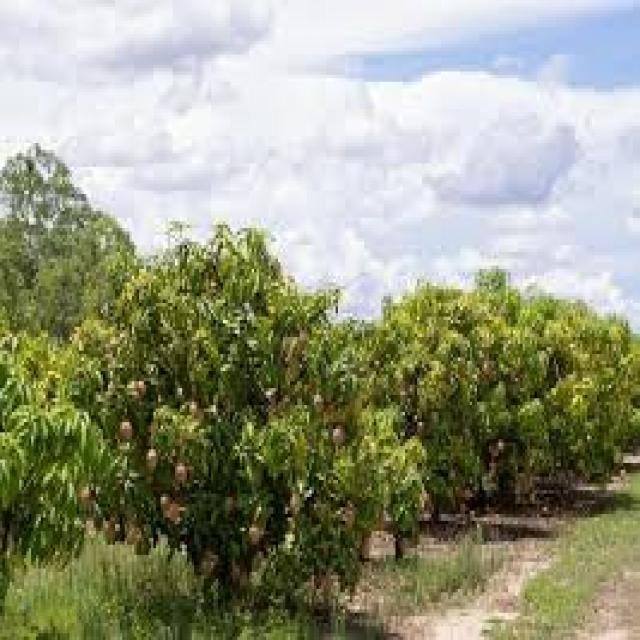Tree: (76, 235, 383, 626), (359, 247, 524, 554), (475, 246, 640, 516)
